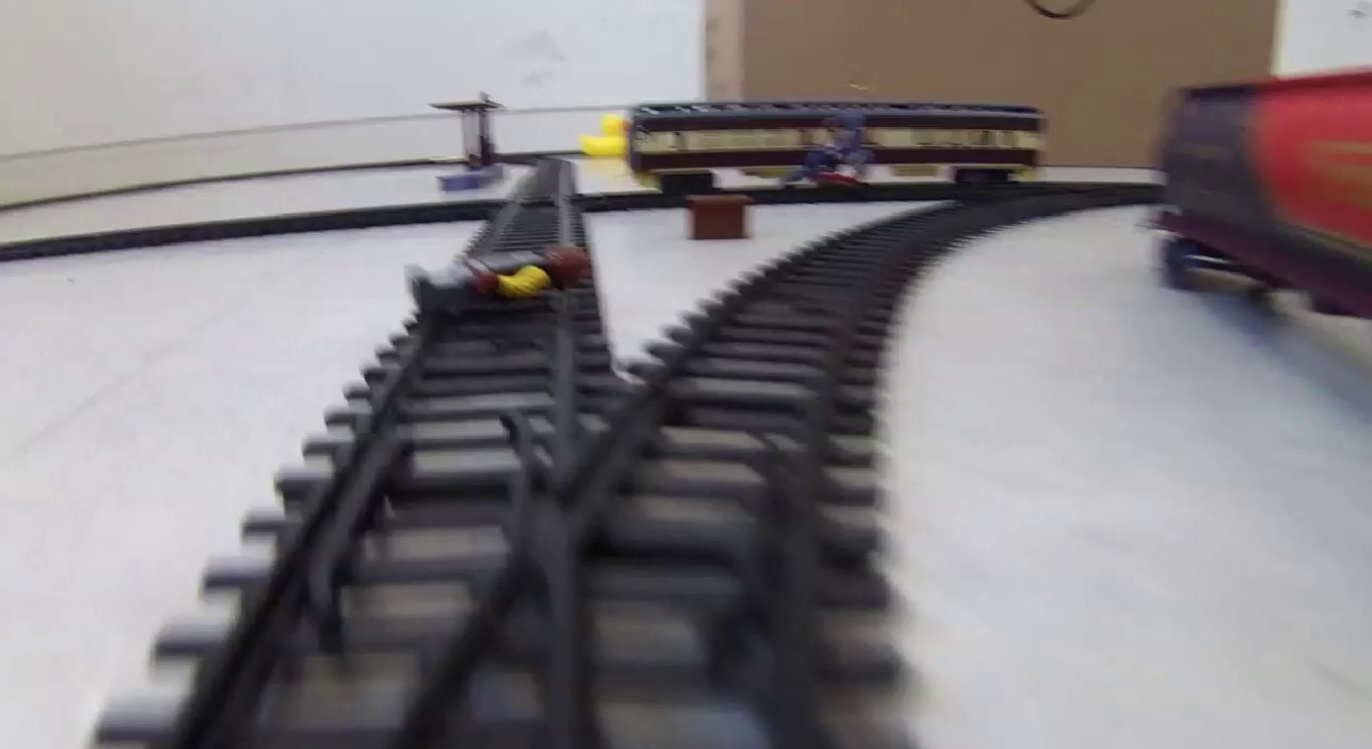box: (688, 194, 751, 241)
people: (404, 240, 592, 307)
